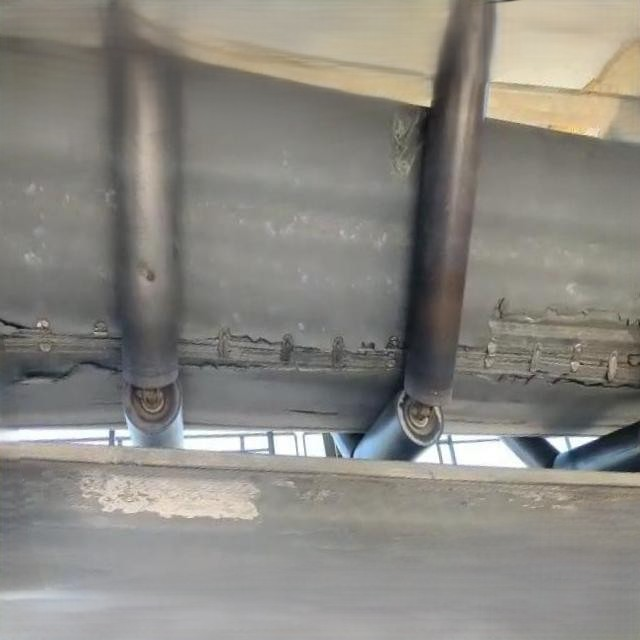Tear: (176, 327, 406, 381), (486, 300, 640, 364), (488, 363, 640, 408), (5, 356, 124, 396), (3, 313, 122, 352), (280, 402, 346, 426)
Wear: (383, 96, 431, 186)
